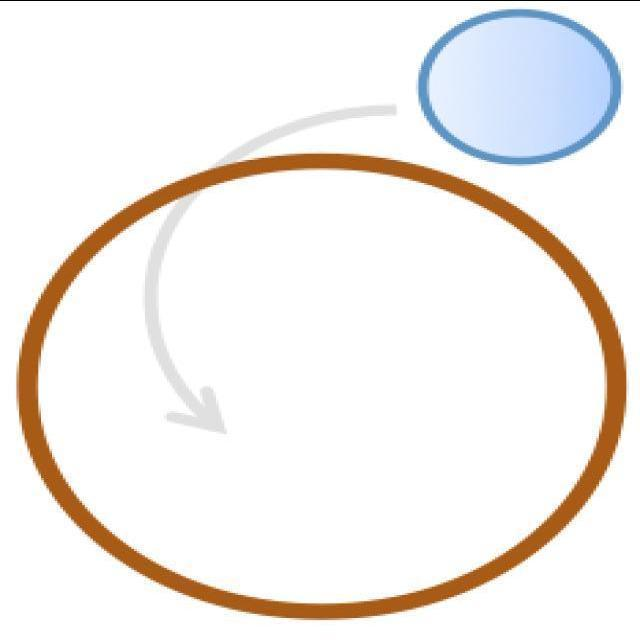Circle: (10, 149, 640, 622), (413, 8, 631, 168)
